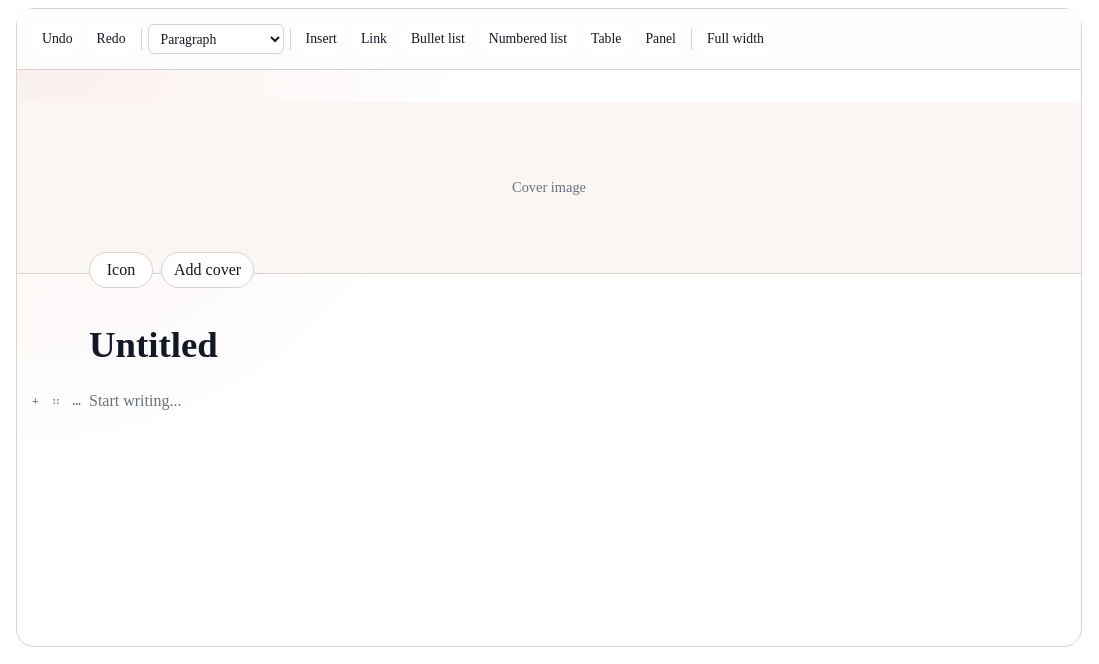
StellaEditor › filters slash commands by description text
Type "/checkboxes" into the field with placeholder "Start writing..." at x=549, y=402, box [89, 385, 1009, 419]
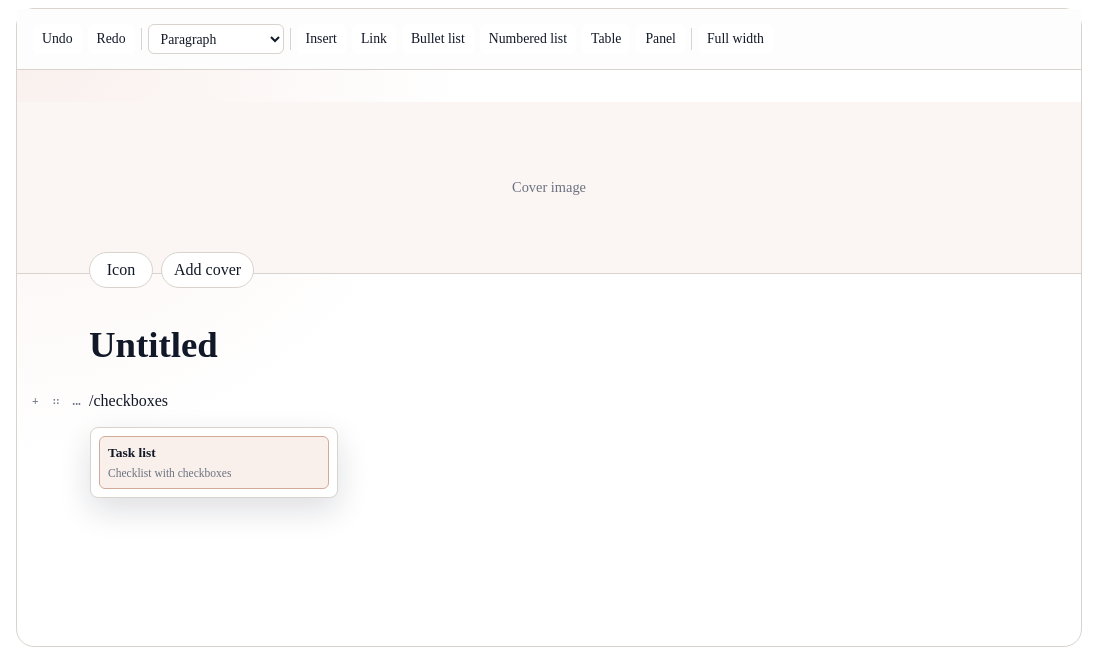
Expected: the button "Task list Checklist with checkboxes" is shown, [99, 436, 329, 489]
